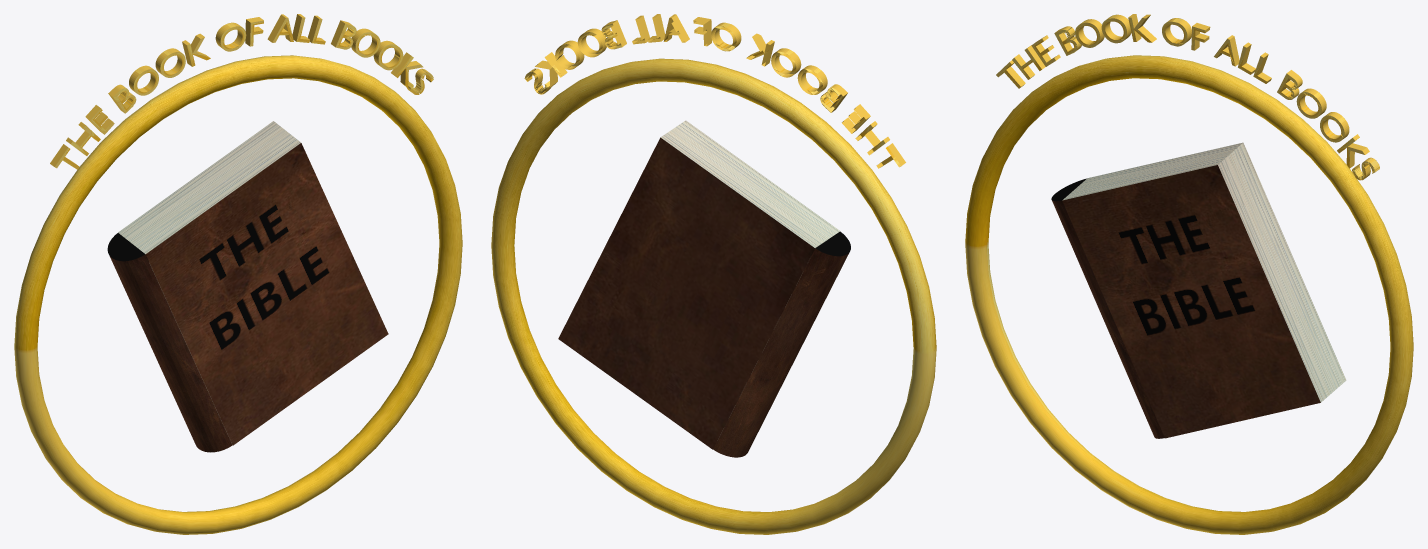
The model's file is BookOfAllBooks.gltf.
3 views of the same model, side by side, from view 1: azimuth 30°, elevation 25°; view 2: azimuth 150°, elevation 25°; view 3: azimuth 330°, elevation 25° (orthographic).
Parts seen in each view (by area): view 1: Cylinder, Torus, Text; view 2: Cylinder, Torus, Text; view 3: Cylinder, Torus, Text.
Part boxes in pixels (box(x1,y1,x2,y2)): Cylinder: box(107, 121, 388, 452); Torus: box(14, 55, 462, 534); Text: box(50, 14, 433, 169); Cylinder: box(558, 120, 850, 457); Torus: box(491, 58, 936, 534); Text: box(524, 14, 905, 168); Cylinder: box(1051, 142, 1346, 438); Torus: box(965, 55, 1413, 534); Text: box(996, 14, 1379, 180).
Bounding box in the file's own units: 5.21 × 5.67 × 0.6993.
2 materials, 2 textured.
